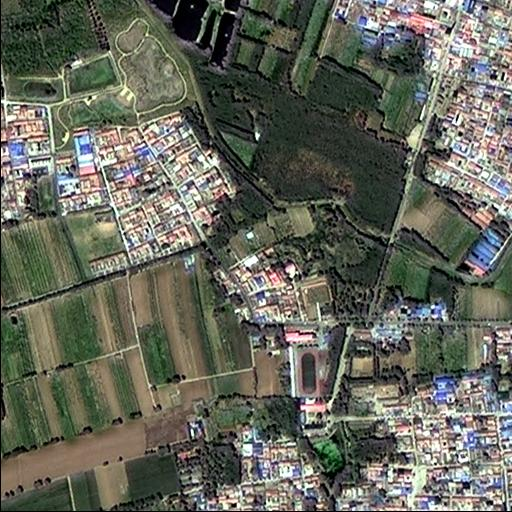school: (284, 323, 326, 400)
